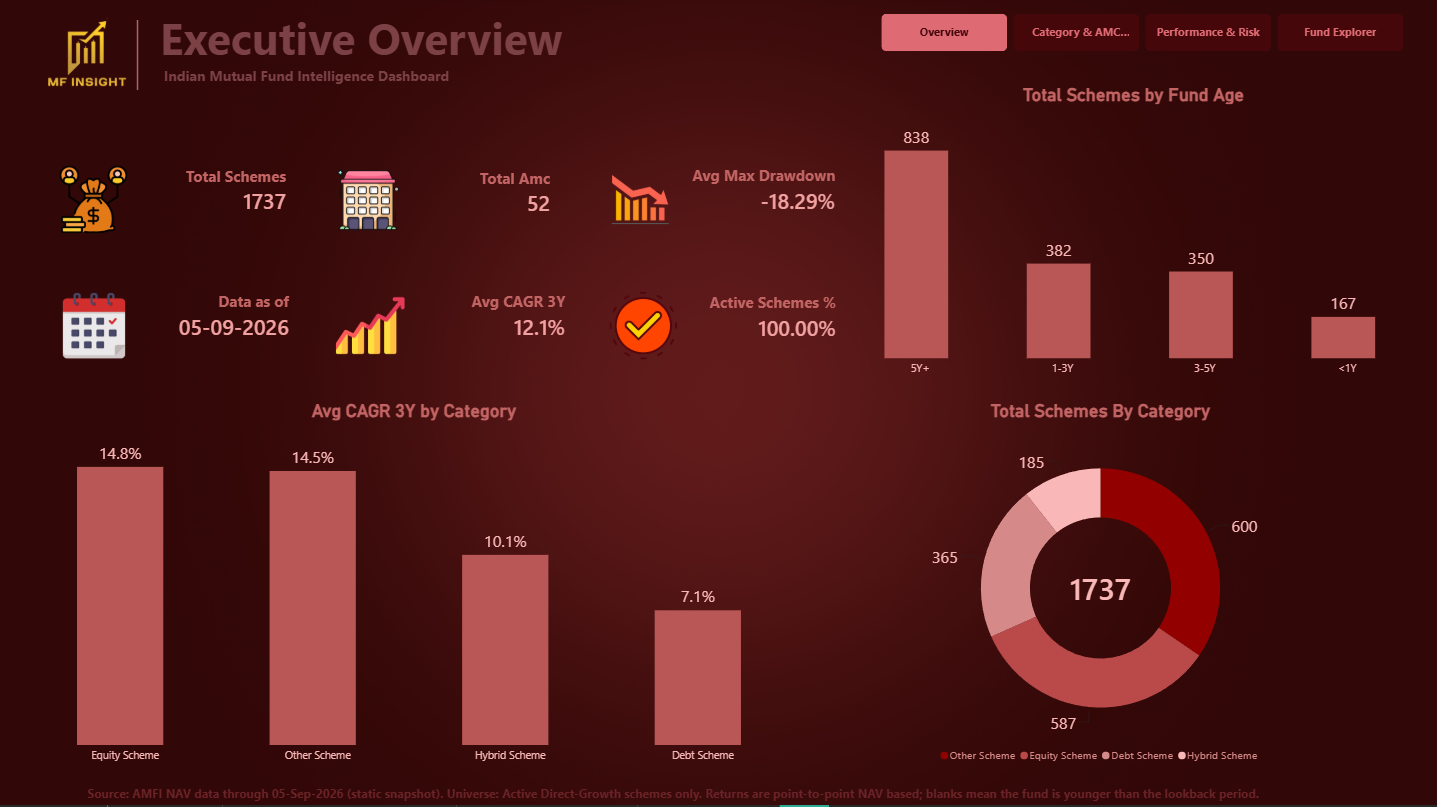

What the dashboard file says about the page in this screenshot:
{"tool":"powerbi","page":{"name":"Overview","canvas":[1920,1080],"ordinal":0},"visuals":[{"type":"cardVisual","fields":{"Data":["Table.Total Schemes"]},"box":[64,204,334,140],"z":0},{"type":"cardVisual","fields":{"Data":["Table.Avg CAGR 3Y"]},"box":[432,372,338,140],"z":1000},{"type":"cardVisual","fields":{"Data":["Table.Total Amc"]},"box":[432,204,318,140],"z":2000},{"type":"cardVisual","fields":{"Data":["Table.•Data as of"]},"box":[64,372,338,140],"z":3000},{"type":"cardVisual","fields":{"Data":["Table.Avg Max Drawdown"]},"box":[792,204,338,140],"z":4000},{"type":"donutChart","title":"Total Schemes By Category","fields":{"Y":["Table.Total Schemes"],"Category":["processed.category_group_clean"]},"box":[1064,540,808,488],"z":5000},{"type":"clusteredColumnChart","title":"Avg CAGR 3Y by Category","fields":{"Y":["Table.Avg CAGR 3Y"],"Category":["processed.category_group_clean"]},"box":[0,540,1104,488],"z":6000},{"type":"image","box":[43.3,26.7,143.3,96.7],"z":7000},{"type":"columnChart","title":"Total Schemes by Fund Age","fields":{"Category":["processed.fund_age_tier"],"Y":["Table.Total Schemes"]},"box":[1104,118,816,394],"z":8000},{"type":"shape","box":[76.7,33.3,213.3,93.3],"z":9000},{"type":"textbox","box":[214,16,582,148],"z":10000},{"type":"cardVisual","fields":{"Data":["Table.Active Schemes %"]},"box":[796,372,334,140],"z":11000},{"type":"textbox","box":[116.7,1053.3,1650,26],"z":11001},{"type":"pageNavigator","box":[1175,25,698,50],"z":11002}]}

Visuals, with their boxes in screenshot pixels (x1, y1, x2, y2), scaled from the page's 1920x1080 canvas onto the 1437x807 screenshot:
cardVisual - Table.Total Schemes: 48,152,298,257
cardVisual - Table.Avg CAGR 3Y: 323,278,576,383
cardVisual - Table.Total Amc: 323,152,561,257
cardVisual - Table.•Data as of: 48,278,301,383
cardVisual - Table.Avg Max Drawdown: 593,152,846,257
"Total Schemes By Category" donutChart: 796,404,1401,768
"Avg CAGR 3Y by Category" clusteredColumnChart: 0,404,826,768
image: 32,20,140,92
"Total Schemes by Fund Age" columnChart: 826,88,1436,383
shape: 57,25,217,95
textbox: 160,12,596,123
cardVisual - Table.Active Schemes %: 596,278,846,383
textbox: 87,787,1322,806
pageNavigator: 879,19,1402,56
